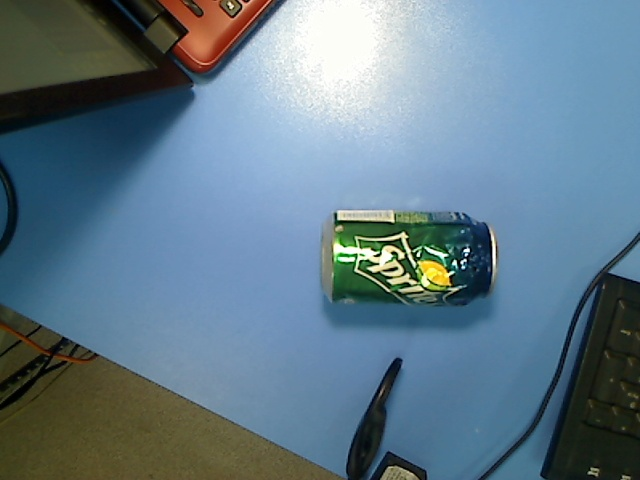can: (317, 209, 500, 307)
